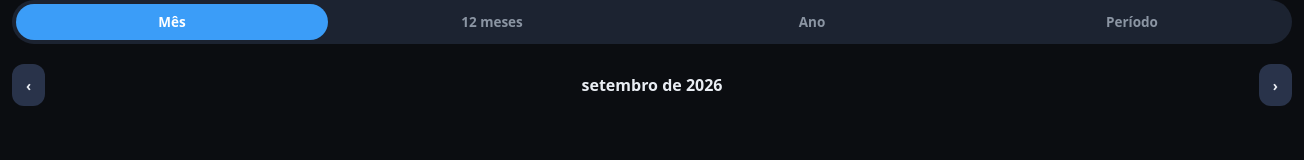
SeletorPeriodo › modo Mês: o seletor de mês fica na barra fixa e anda de mês em mês
Check: the text "setembro de 2026" is shown, box top-left (582, 74), bottom-right (722, 96)
Click the button named "Mês anterior": {"x": 29, "y": 85} top-left (12, 64), bottom-right (45, 106)
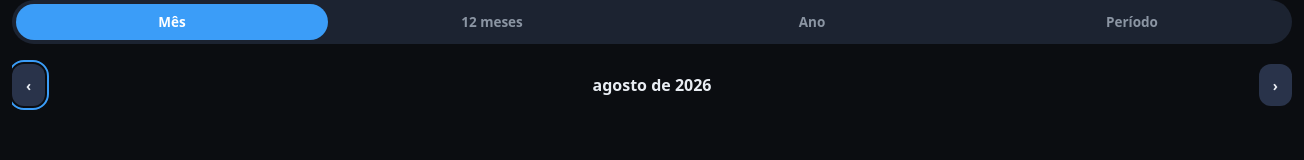
Check: the text "agosto de 2026" is shown, box top-left (592, 74), bottom-right (712, 96)
